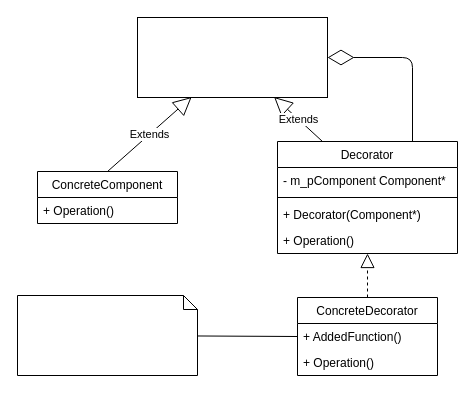
Some shapes in this 475 by 396 pixel diagram are drawn without their labels. Each missing label, with the centre of its shape:
<<Interface>> Component + Operation(): the point at 232,57
void Operation() { m_pComponent->Operation(); AddedFunction(); }: the point at 107,335
